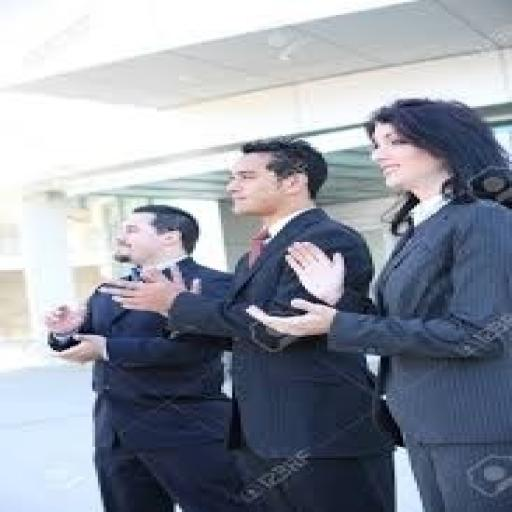clapping: (246, 95, 509, 510), (42, 201, 252, 510)
